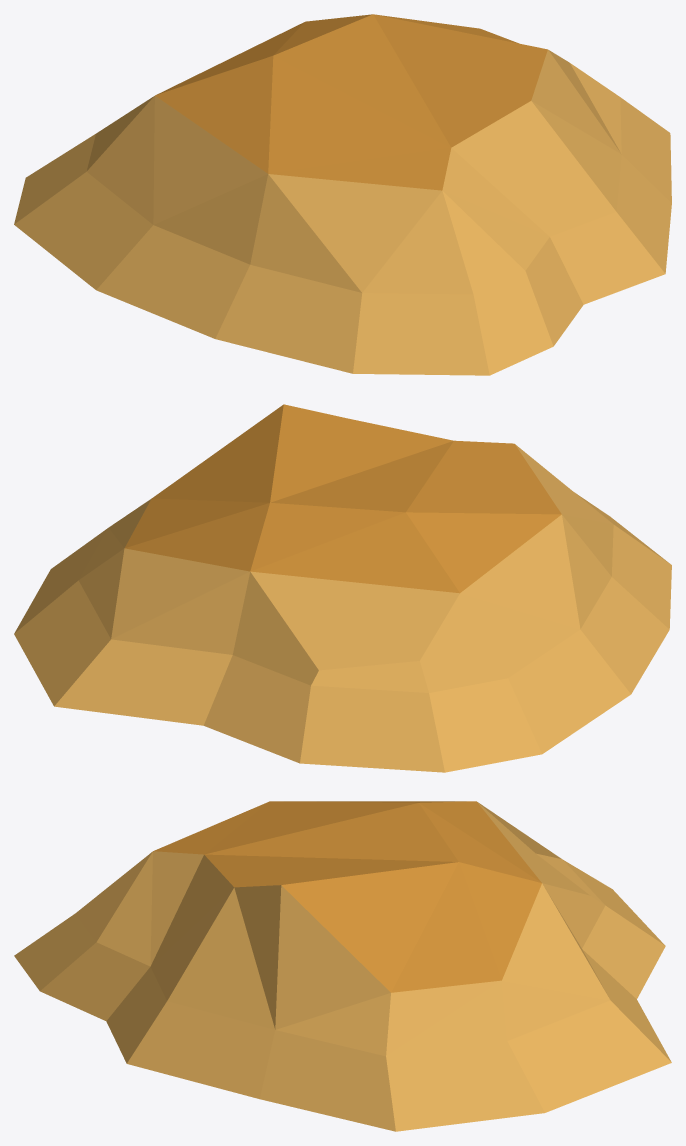
File: island_2.fbx
The picture shows the model from 3 angles, top to bottom: view 1: azimuth 30°, elevation 25°; view 2: azimuth 150°, elevation 25°; view 3: azimuth 270°, elevation 25°; orthographic projection. The views are drawn at different scales.
Visible parts, largest first — view 1: island_2; view 2: island_2; view 3: island_2.
Part boxes in pixels (x1=…): island_2: x1=14, y1=14, x2=671, y2=375; island_2: x1=14, y1=404, x2=671, y2=772; island_2: x1=14, y1=801, x2=671, y2=1131.
Size of the model in its own units: 873 by 244 by 895.
